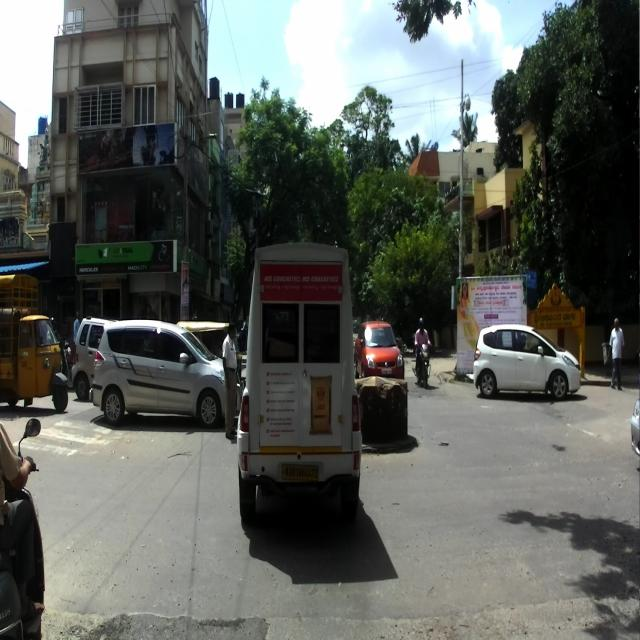Car: (473, 319, 582, 400)
Car_Maruti-Suzuki: (88, 315, 245, 429), (356, 318, 404, 384)
autorickshaw: (0, 272, 69, 416)
mini-bus: (238, 238, 362, 526)
scooter: (0, 415, 46, 639)
